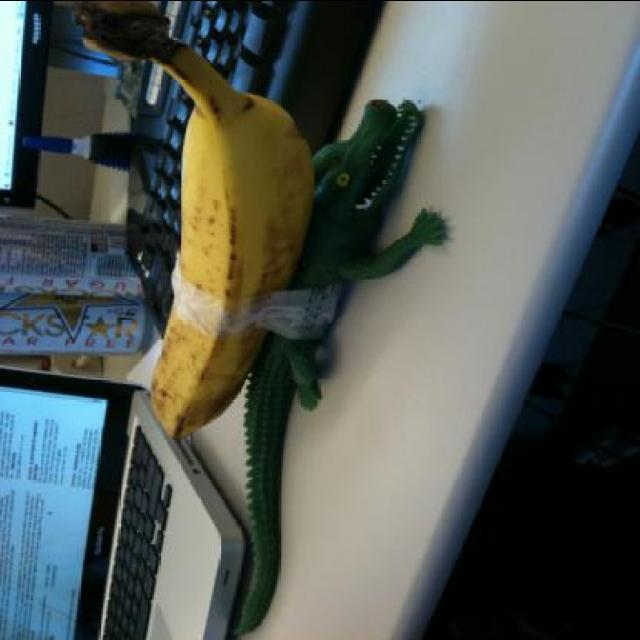Banana: (71, 0, 314, 440)
